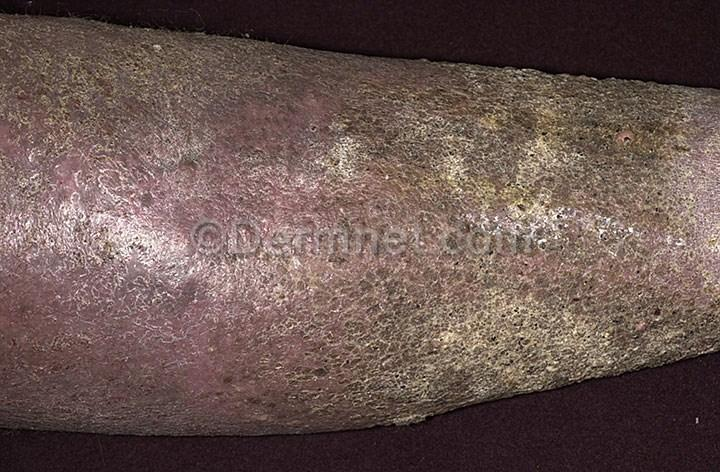Eczema: (419, 314, 596, 379), (471, 71, 654, 129), (432, 137, 553, 203), (293, 131, 375, 185), (107, 215, 157, 299), (3, 143, 59, 212)
